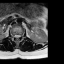CCS_normal: (16, 31, 18, 41)
LFS_normal: (20, 32, 22, 38)
LLS_normal: (18, 31, 20, 40)
RFS_normal: (12, 32, 14, 39)
RLS_normal: (14, 31, 16, 40)
